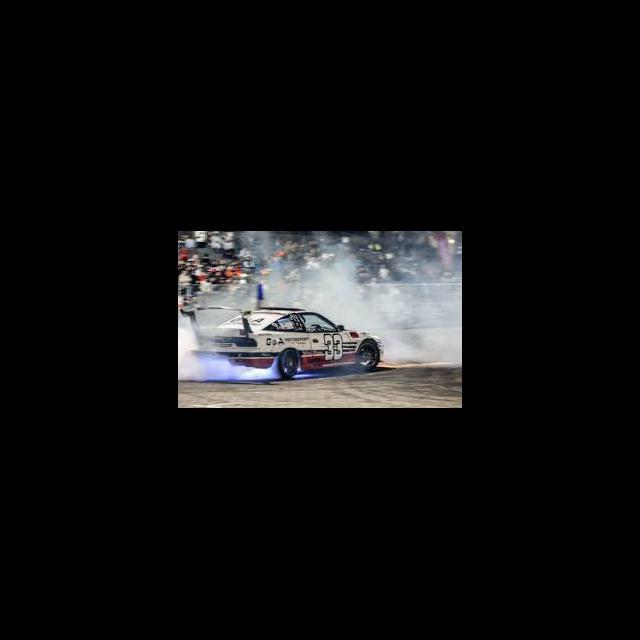Smoke: (326, 274, 461, 364), (180, 335, 258, 381)
